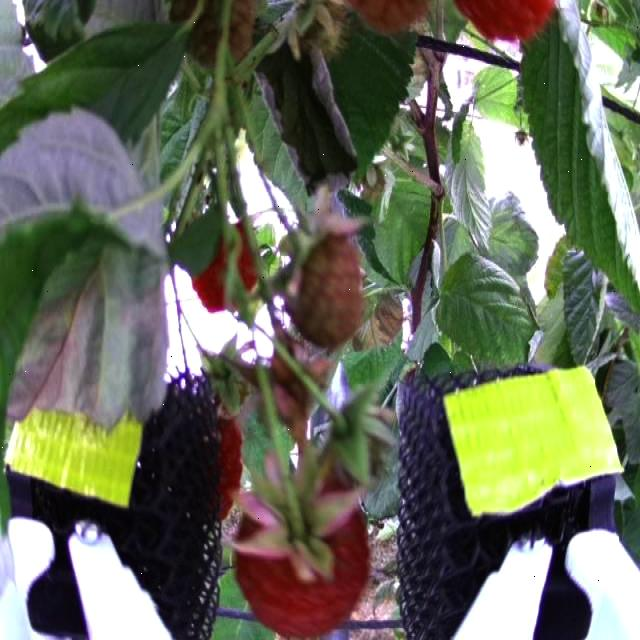Riped berries: (237, 464, 374, 634), (190, 213, 257, 322), (454, 0, 559, 53), (214, 412, 238, 522)
